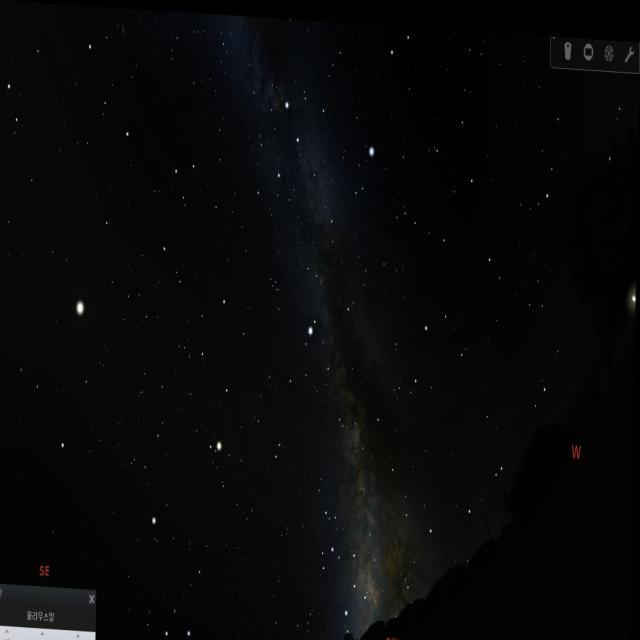aquila: (285, 301, 357, 430)
cygnus: (271, 86, 340, 254)
lyra: (343, 129, 378, 207)
sagittarius: (329, 531, 369, 627)
